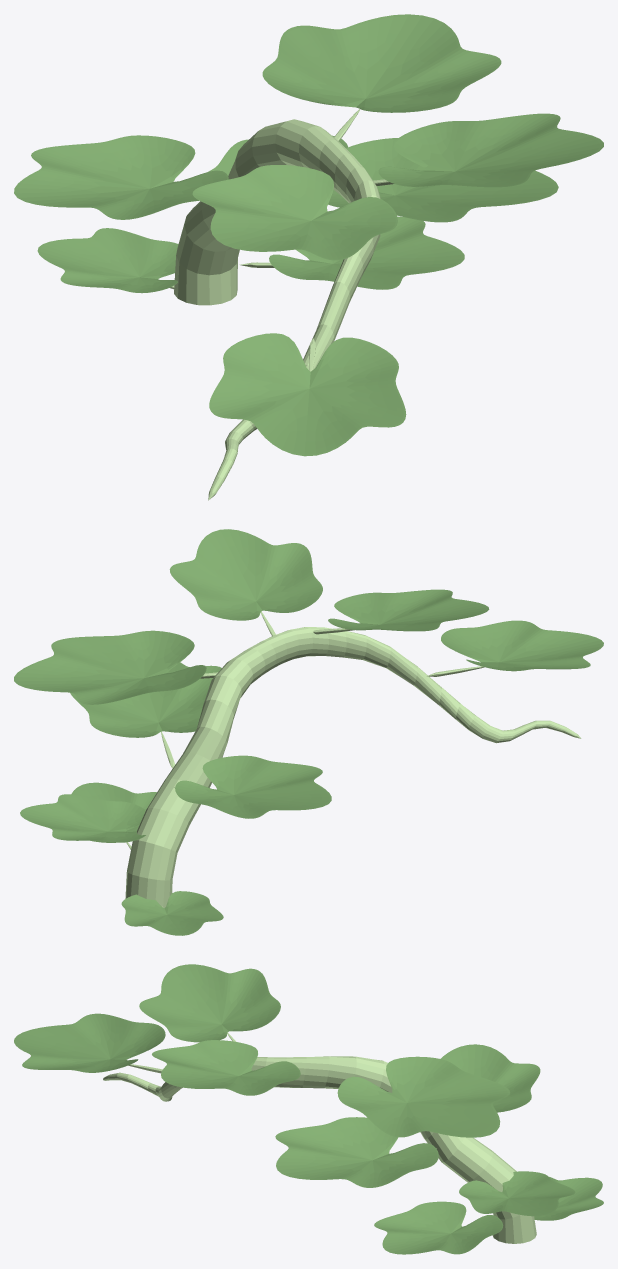
Rendered from 003_pumpkinstem2.fbx.
The picture shows the model from 3 angles, top to bottom: view 1: azimuth 30°, elevation 25°; view 2: azimuth 150°, elevation 25°; view 3: azimuth 270°, elevation 25°; orthographic projection. The views are drawn at different scales.
Visible parts, largest first — view 1: stem2; view 2: stem2; view 3: stem2.
Part boxes in pixels (box(x1,y1,x2,y2)): stem2: box(14, 14, 603, 500); stem2: box(14, 529, 603, 935); stem2: box(14, 964, 603, 1254).
Size of the model in its own units: 368 by 201 by 531.
1 material, 1 textured.
